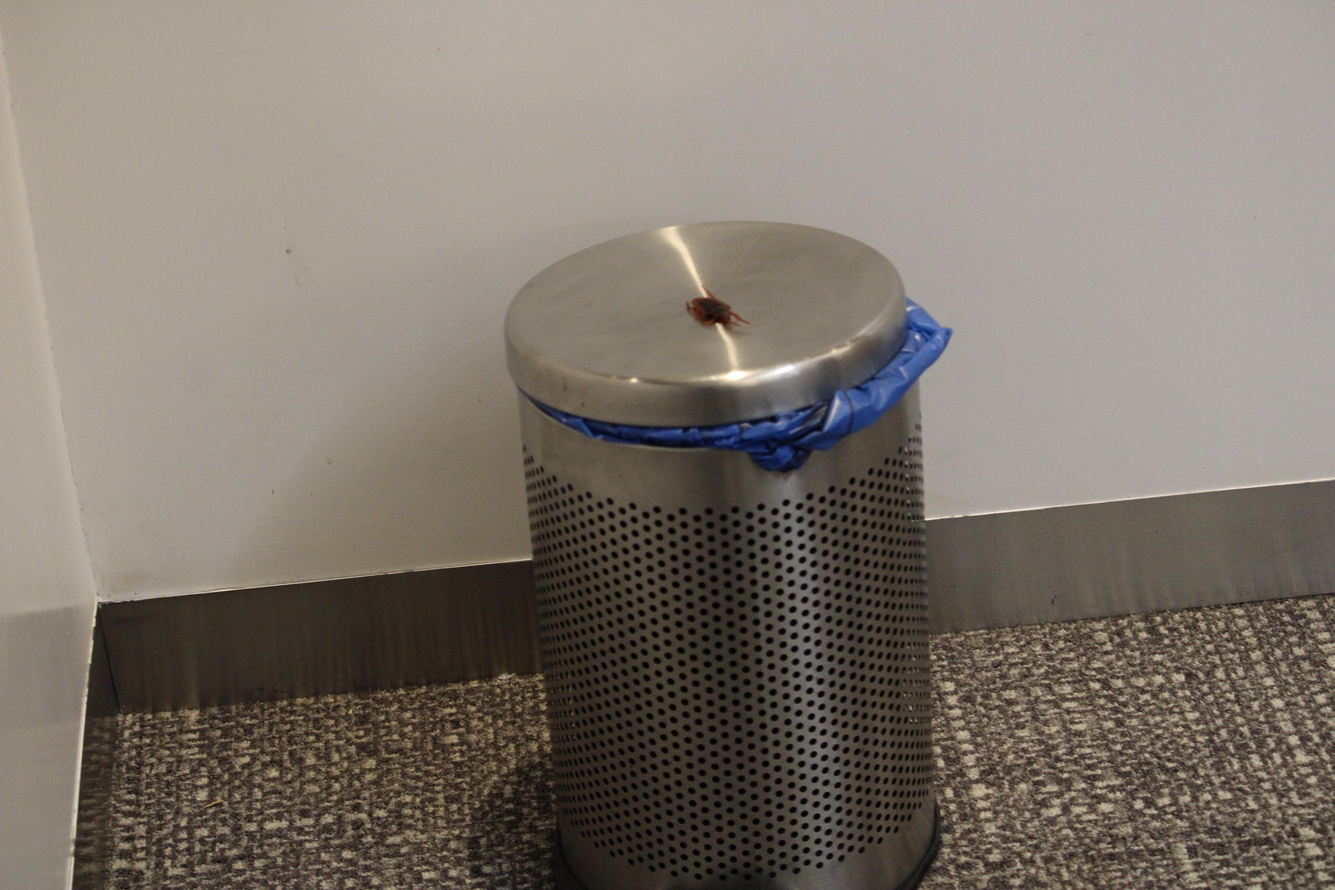cockroach: (686, 283, 743, 338)
